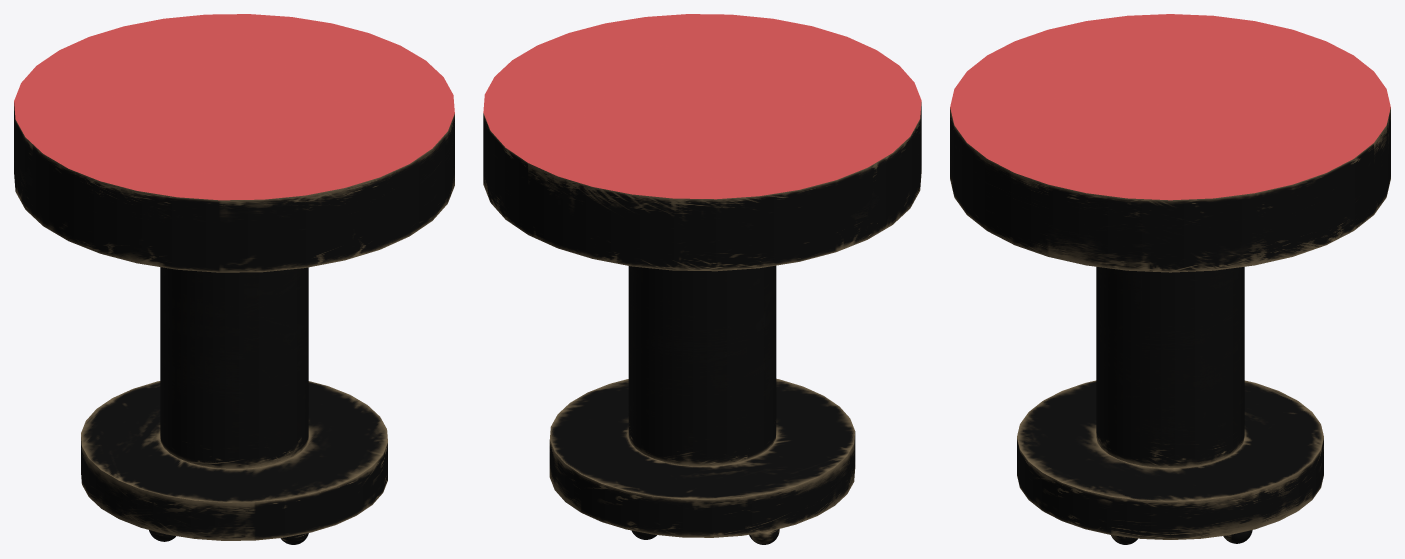
The picture shows the model from 3 angles, left to right: view 1: azimuth 30°, elevation 25°; view 2: azimuth 150°, elevation 25°; view 3: azimuth 270°, elevation 25°; orthographic projection.
Visible parts, largest first — view 1: table; view 2: table; view 3: table.
Part boxes in pixels (x1,y1,x2,y2): table: [14, 14, 454, 544]; table: [483, 14, 921, 544]; table: [950, 14, 1390, 544].
Size of the model in its own units: 4.68 by 4.61 by 4.68.
1 material, 1 textured.
